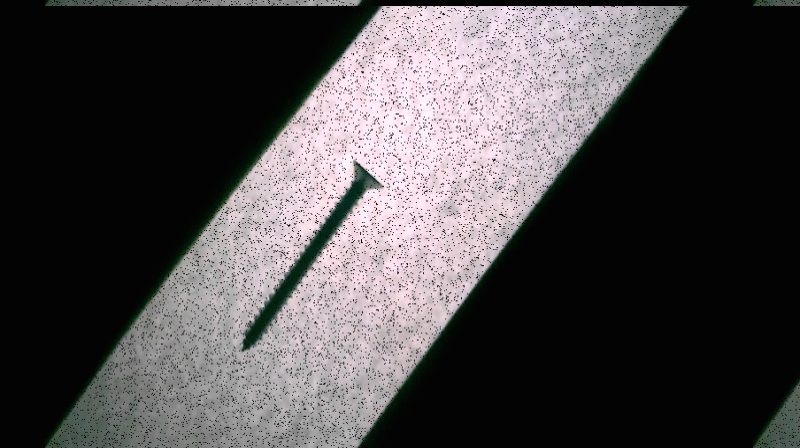S002: (235, 157, 387, 356)
